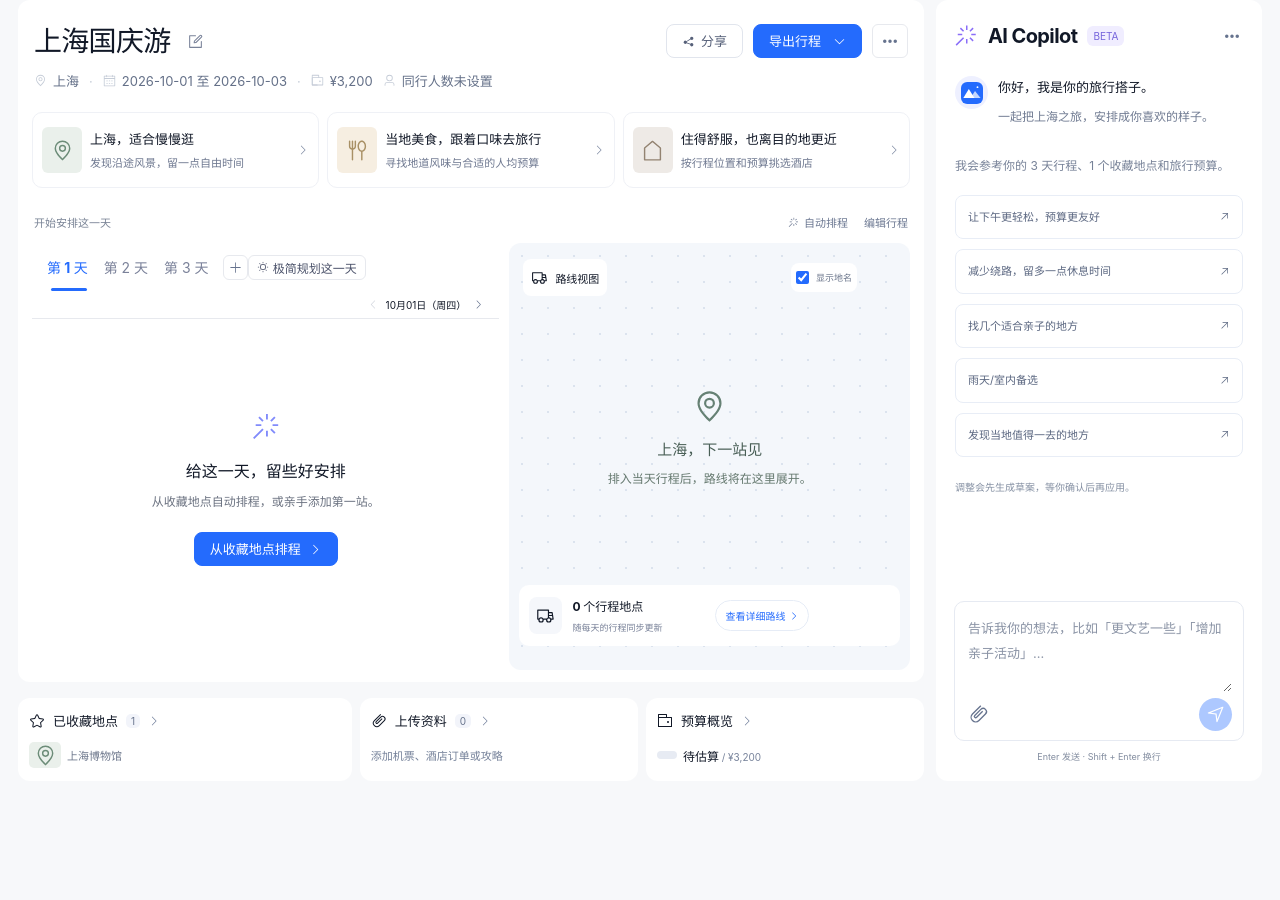
Test: TripDetail › previews the suggested schedule and only writes it after confirmation
Click the button with aria-label "Auto-schedule my saved places".
click(818, 222)  # box x1=788 y1=210 x2=848 y2=234
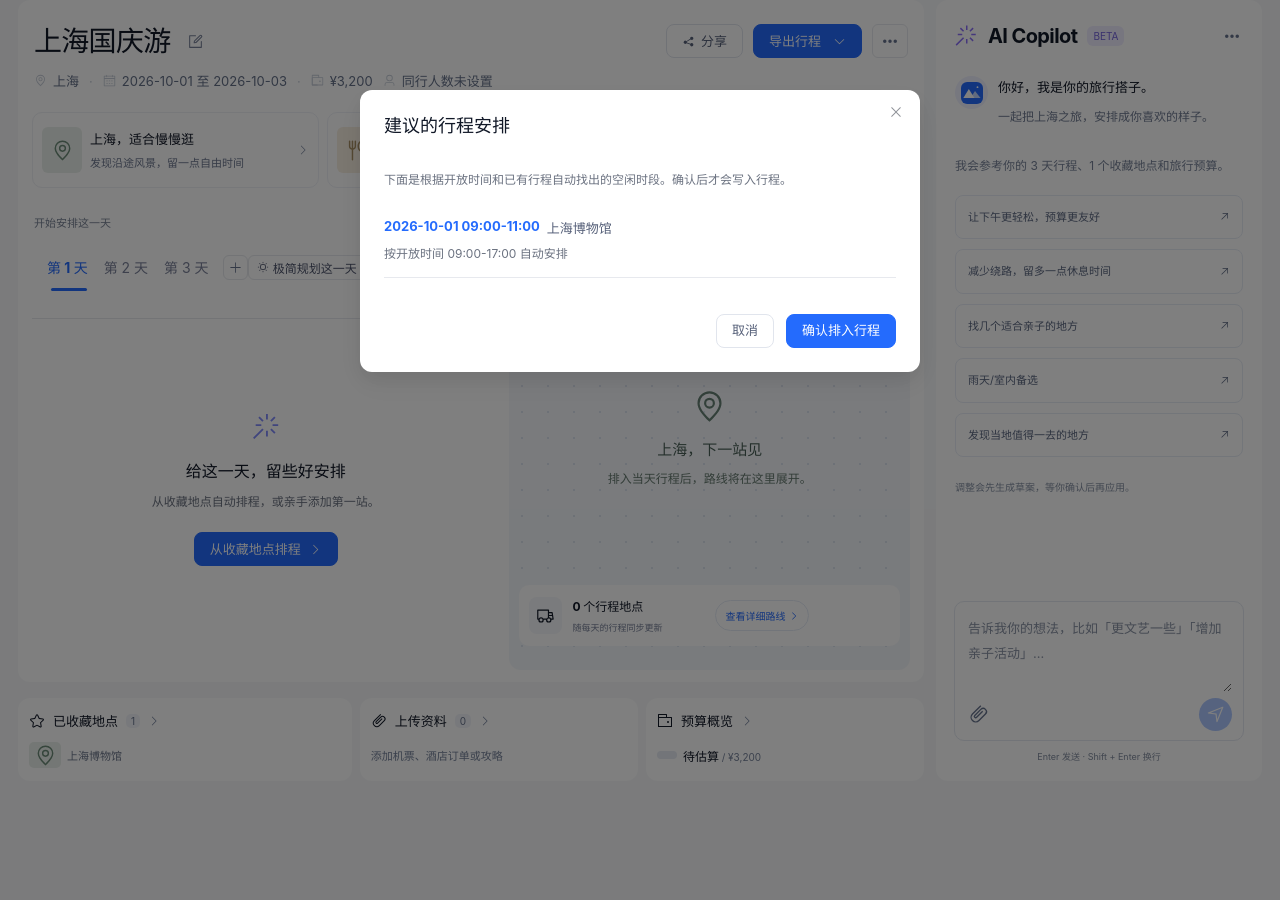
Check: the text "建议的行程安排" is shown, box x1=384 y1=115 x2=510 y2=136
Check: the text "按开放时间 09:00-17:00 自动安排" is shown, box x1=384 y1=246 x2=568 y2=261
Click the button with aria-label "Confirm the suggested schedule".
click(841, 331)  # box x1=786 y1=314 x2=896 y2=348
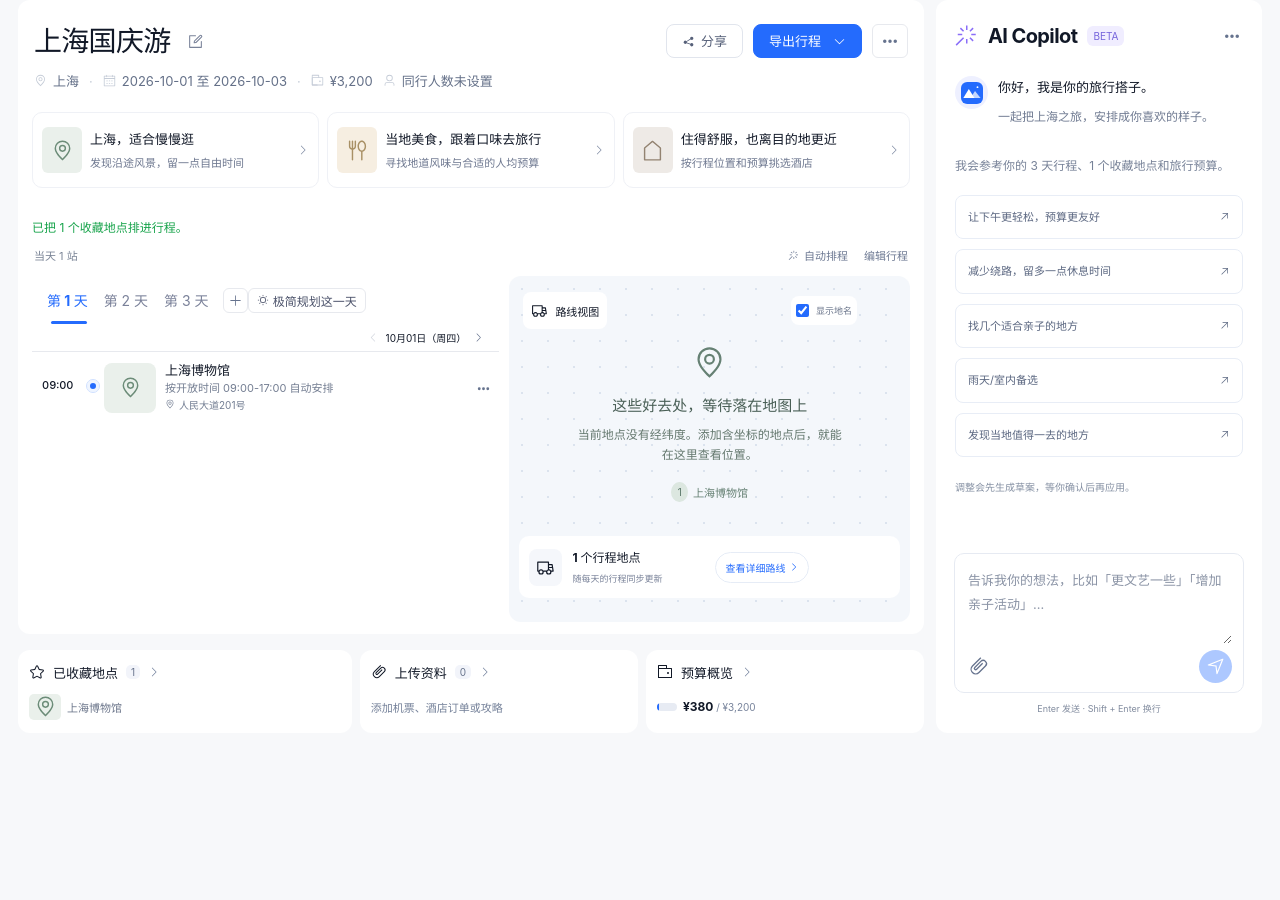
Check: the text "已把 1 个收藏地点排进行程" is shown, box x1=32 y1=220 x2=188 y2=235
